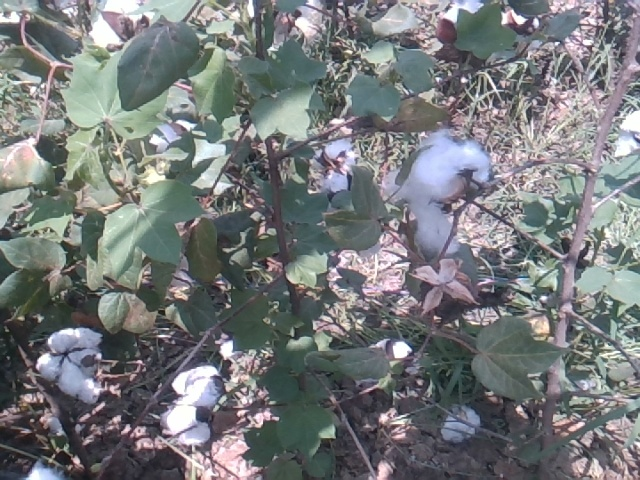cotton: (383, 137, 498, 261), (162, 365, 229, 453), (37, 326, 106, 407), (306, 138, 367, 207), (76, 1, 158, 52), (427, 396, 488, 449), (427, 3, 502, 31), (11, 453, 87, 480), (379, 338, 415, 388), (611, 107, 640, 160), (141, 117, 183, 151)
